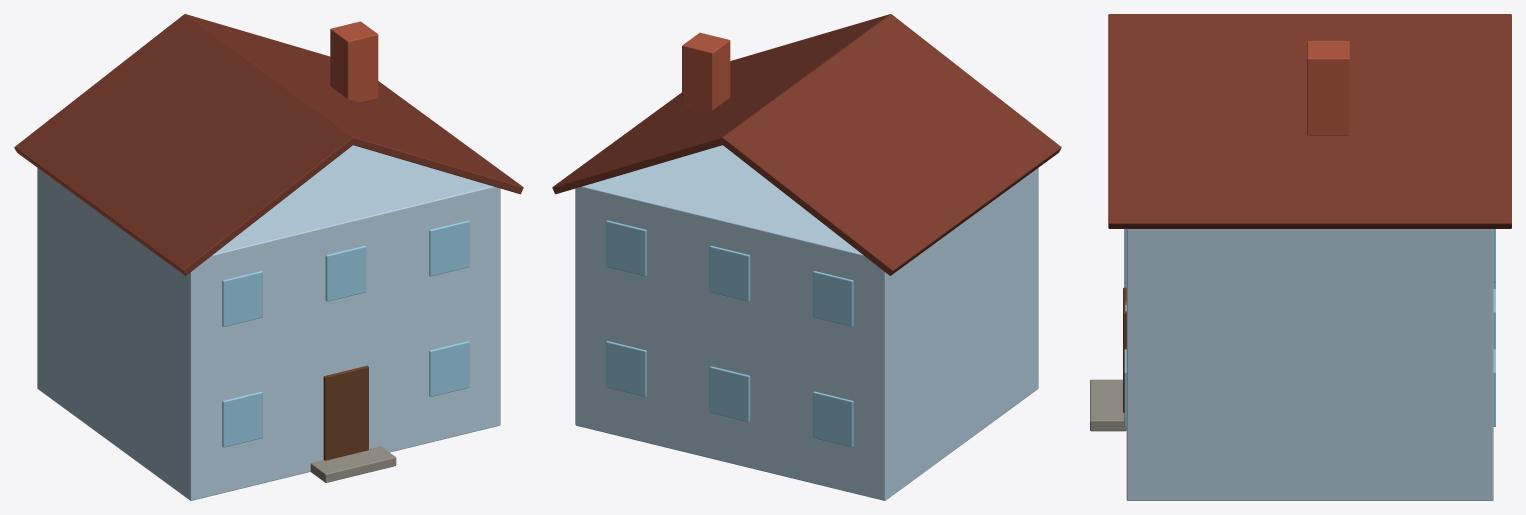
Rendered from house_blue.glb.
3 views of the same model, side by side, from view 1: azimuth 30°, elevation 25°; view 2: azimuth 150°, elevation 25°; view 3: azimuth 270°, elevation 25° (orthographic). The views are drawn at different scales.
Visible parts, largest first — view 1: house; view 2: house; view 3: house.
Boxes of the visible parts, bbox=[...] form: house: bbox=[14, 14, 523, 500]; house: bbox=[552, 14, 1061, 500]; house: bbox=[1090, 14, 1511, 500].
Bounding box in the file's own units: 7.7 × 7.5 × 6.9.
